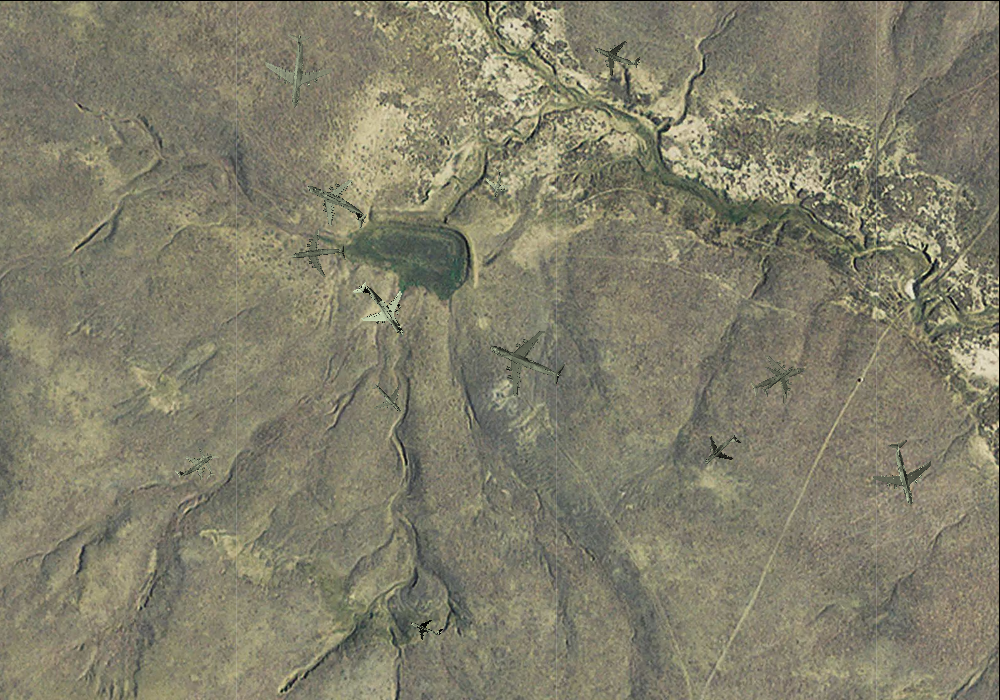plane: (475, 312, 576, 410), (338, 265, 423, 353), (293, 162, 380, 245), (257, 29, 335, 110), (865, 433, 942, 513), (742, 343, 814, 414), (288, 224, 348, 283), (587, 26, 647, 85), (693, 422, 749, 479), (751, 353, 805, 407), (167, 440, 220, 491), (362, 372, 413, 423), (183, 440, 226, 484), (405, 608, 446, 647), (479, 164, 515, 202)
